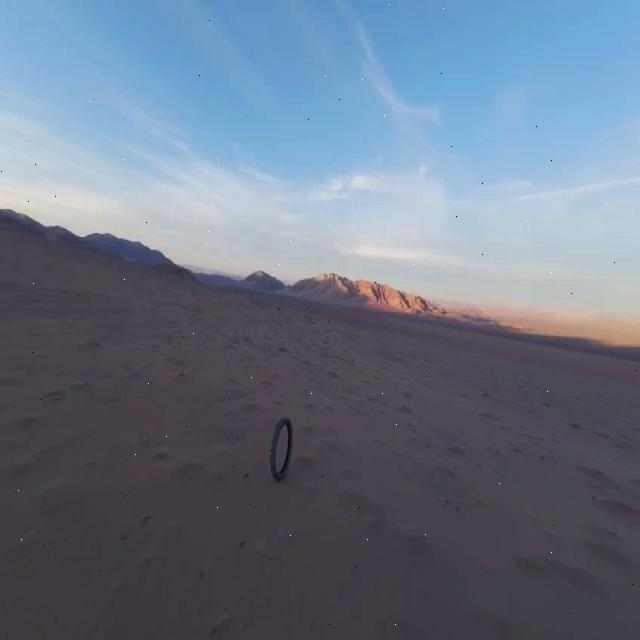Tire: (271, 416, 292, 479)
